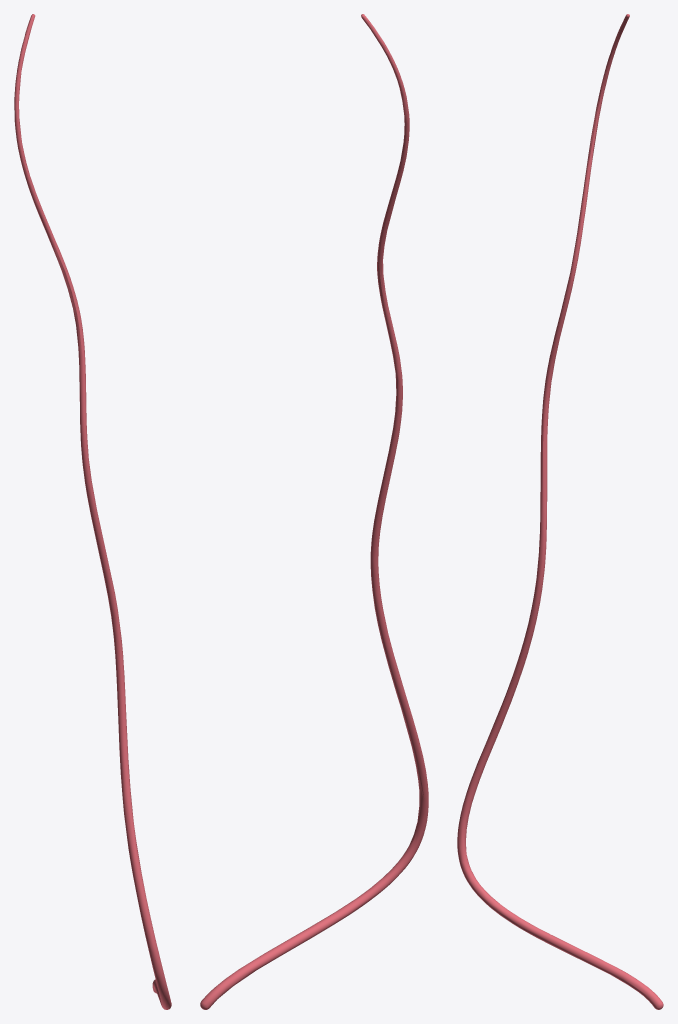
File: fma14297_fj4983.glb
3 views of the same model, side by side, from view 1: azimuth 30°, elevation 25°; view 2: azimuth 150°, elevation 25°; view 3: azimuth 270°, elevation 25° (orthographic). The views are drawn at different scales.
Parts seen in each view (by area): view 1: FMA14297_FJ4983; view 2: FMA14297_FJ4983; view 3: FMA14297_FJ4983.
Boxes of the visible parts, <box> form: FMA14297_FJ4983: <box>14,14,171,1009</box>; FMA14297_FJ4983: <box>200,14,428,1009</box>; FMA14297_FJ4983: <box>457,14,663,1009</box>.
Size of the model in its own units: 0.0221 by 0.1215 by 0.0243.
